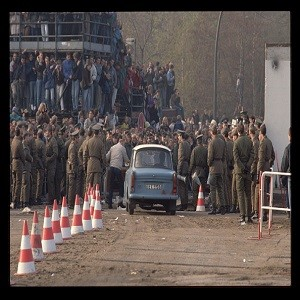traffic cone: (15, 219, 38, 276), (36, 203, 61, 254), (26, 210, 47, 263)
